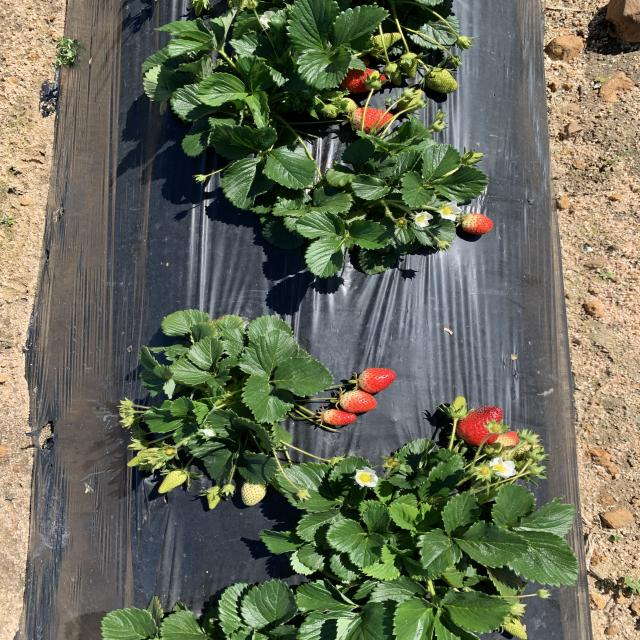unripe: (456, 406, 506, 446), (330, 61, 391, 93), (349, 107, 398, 132), (356, 367, 398, 393), (338, 392, 380, 412), (461, 212, 494, 235), (322, 408, 359, 428)
